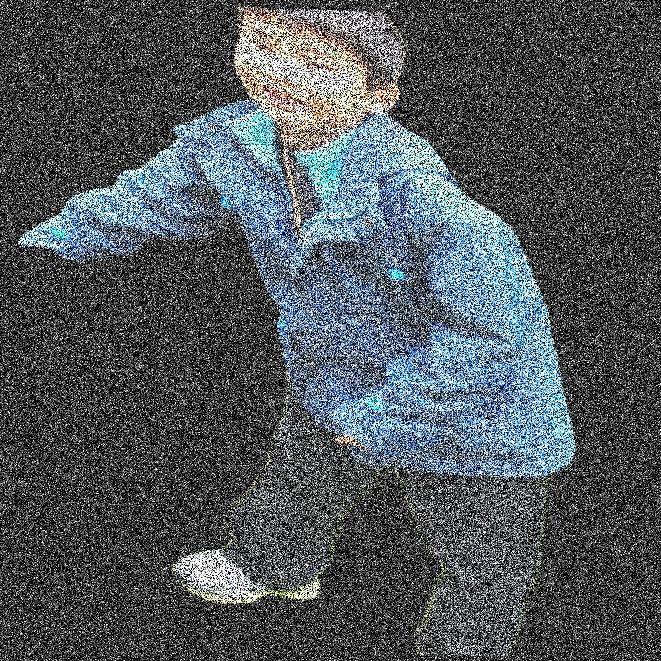Pessoa: (292, 0, 366, 660)
